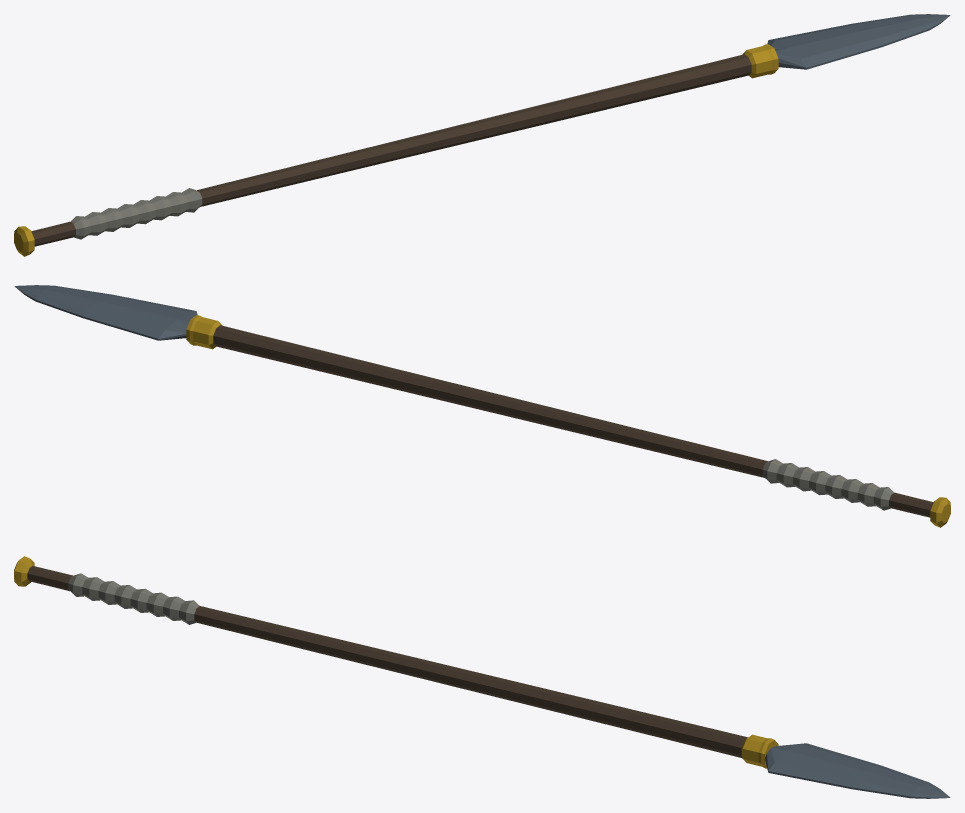
Rendered from yari-spear-e72c1f.glb.
3 renders of one model, top to bottom at view 1: azimuth 30°, elevation 25°; view 2: azimuth 150°, elevation 25°; view 3: azimuth 330°, elevation 25°, orthographic.
Parts seen in each view (by area): view 1: yari-spear-mesh; view 2: yari-spear-mesh; view 3: yari-spear-mesh.
Boxes of the visible parts, x1,y1,x2,y2 form: yari-spear-mesh: (14,14,950,256); yari-spear-mesh: (14,285,950,527); yari-spear-mesh: (14,556,950,798).
Size of the model in its own units: 2.6 by 0.069 by 0.184.
